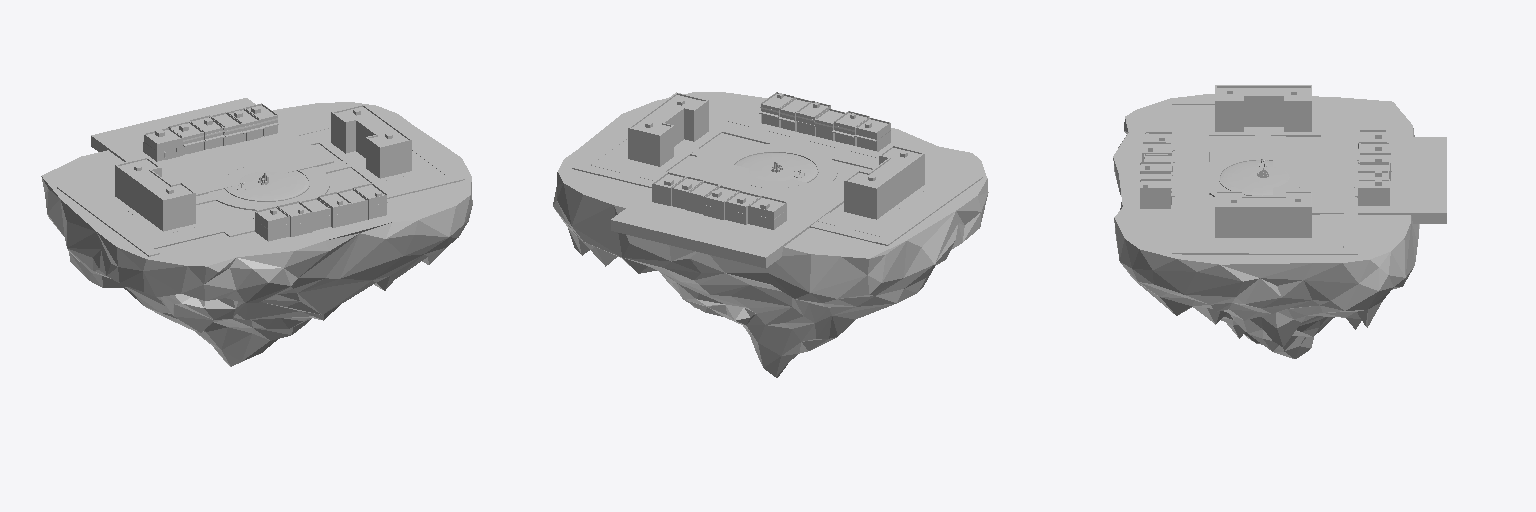
Rendered from citty.obj.
3 renders of one model, left to right at view 1: azimuth 30°, elevation 25°; view 2: azimuth 150°, elevation 25°; view 3: azimuth 270°, elevation 25°, orthographic.
Visible parts, largest first — view 1: base2:Group7301, pCube2, pPipe3, pasted__pCube15 group3, pCube15, pSphere1, base:pCube15, pasted__pasted__pCube1 pasted__group group1, pasted__group group1 pasted__pasted__pCube9, base1:pCube13 group4, pasted__group group1 pasted__pasted__pCube10, pasted__group group1 pasted__pasted__pCube12 (+9 smaller); view 2: base2:Group7301, pCube2, pPipe3, pasted__pCube15 group3, pCube15, pSphere1, base:pCube15, pasted__pasted__pCube1 pasted__group group1, pasted__group group1 pasted__pasted__pCube9, base1:pCube13 group4, pasted__group group1 pasted__pasted__pCube10, pasted__group group1 pasted__pasted__pCube4 (+11 smaller); view 3: base2:Group7301, pCube2, pPipe3, pCube15, pasted__pCube15 group3, pSphere1, base:pCube14, pasted__group group1 pasted__pasted__pCube13, group4 pCube13, pCube13, pasted__group group1 pasted__pasted__pCube8, base:pCube15.
Part boxes in pixels (x1,y1,x2,y2): base2:Group7301: (41, 102, 472, 366); pCube2: (91, 98, 333, 195); pPipe3: (76, 128, 446, 248); pasted__pCube15 group3: (115, 157, 195, 231); pCube15: (331, 104, 411, 178); pSphere1: (226, 171, 308, 200); base:pCube15: (57, 185, 159, 256); pasted__pasted__pCube1 pasted__group group1: (143, 128, 182, 161); pasted__group group1 pasted__pasted__pCube9: (253, 206, 289, 241); base1:pCube13 group4: (319, 139, 415, 183); pasted__group group1 pasted__pasted__pCube10: (277, 201, 312, 236); pasted__group group1 pasted__pasted__pCube12: (318, 191, 351, 227); base2:Group7301: (553, 92, 988, 377); pCube2: (611, 156, 843, 268); pPipe3: (591, 117, 963, 236); pasted__pCube15 group3: (844, 145, 924, 219); pCube15: (628, 92, 708, 166); pSphere1: (735, 153, 817, 181); base:pCube15: (877, 174, 982, 245); pasted__pasted__pCube1 pasted__group group1: (748, 196, 786, 229); pasted__group group1 pasted__pasted__pCube9: (854, 117, 890, 151); base1:pCube13 group4: (621, 128, 721, 171); pasted__group group1 pasted__pasted__pCube10: (832, 111, 869, 145); pasted__group group1 pasted__pasted__pCube4: (725, 191, 760, 224); base2:Group7301: (1113, 94, 1419, 358); pCube2: (1273, 137, 1446, 223); pPipe3: (1185, 105, 1344, 247); pCube15: (1215, 191, 1311, 237); pasted__pCube15 group3: (1215, 85, 1311, 131); pSphere1: (1220, 160, 1289, 195); base:pCube14: (1172, 248, 1357, 254); pasted__group group1 pasted__pasted__pCube13: (1140, 179, 1174, 208); group4 pCube13: (1208, 113, 1320, 136); pCube13: (1172, 139, 1184, 219); pasted__group group1 pasted__pasted__pCube8: (1355, 179, 1389, 205); base:pCube15: (1172, 99, 1358, 104).
Size of the model in its own units: 122 by 73.83 by 99.6.